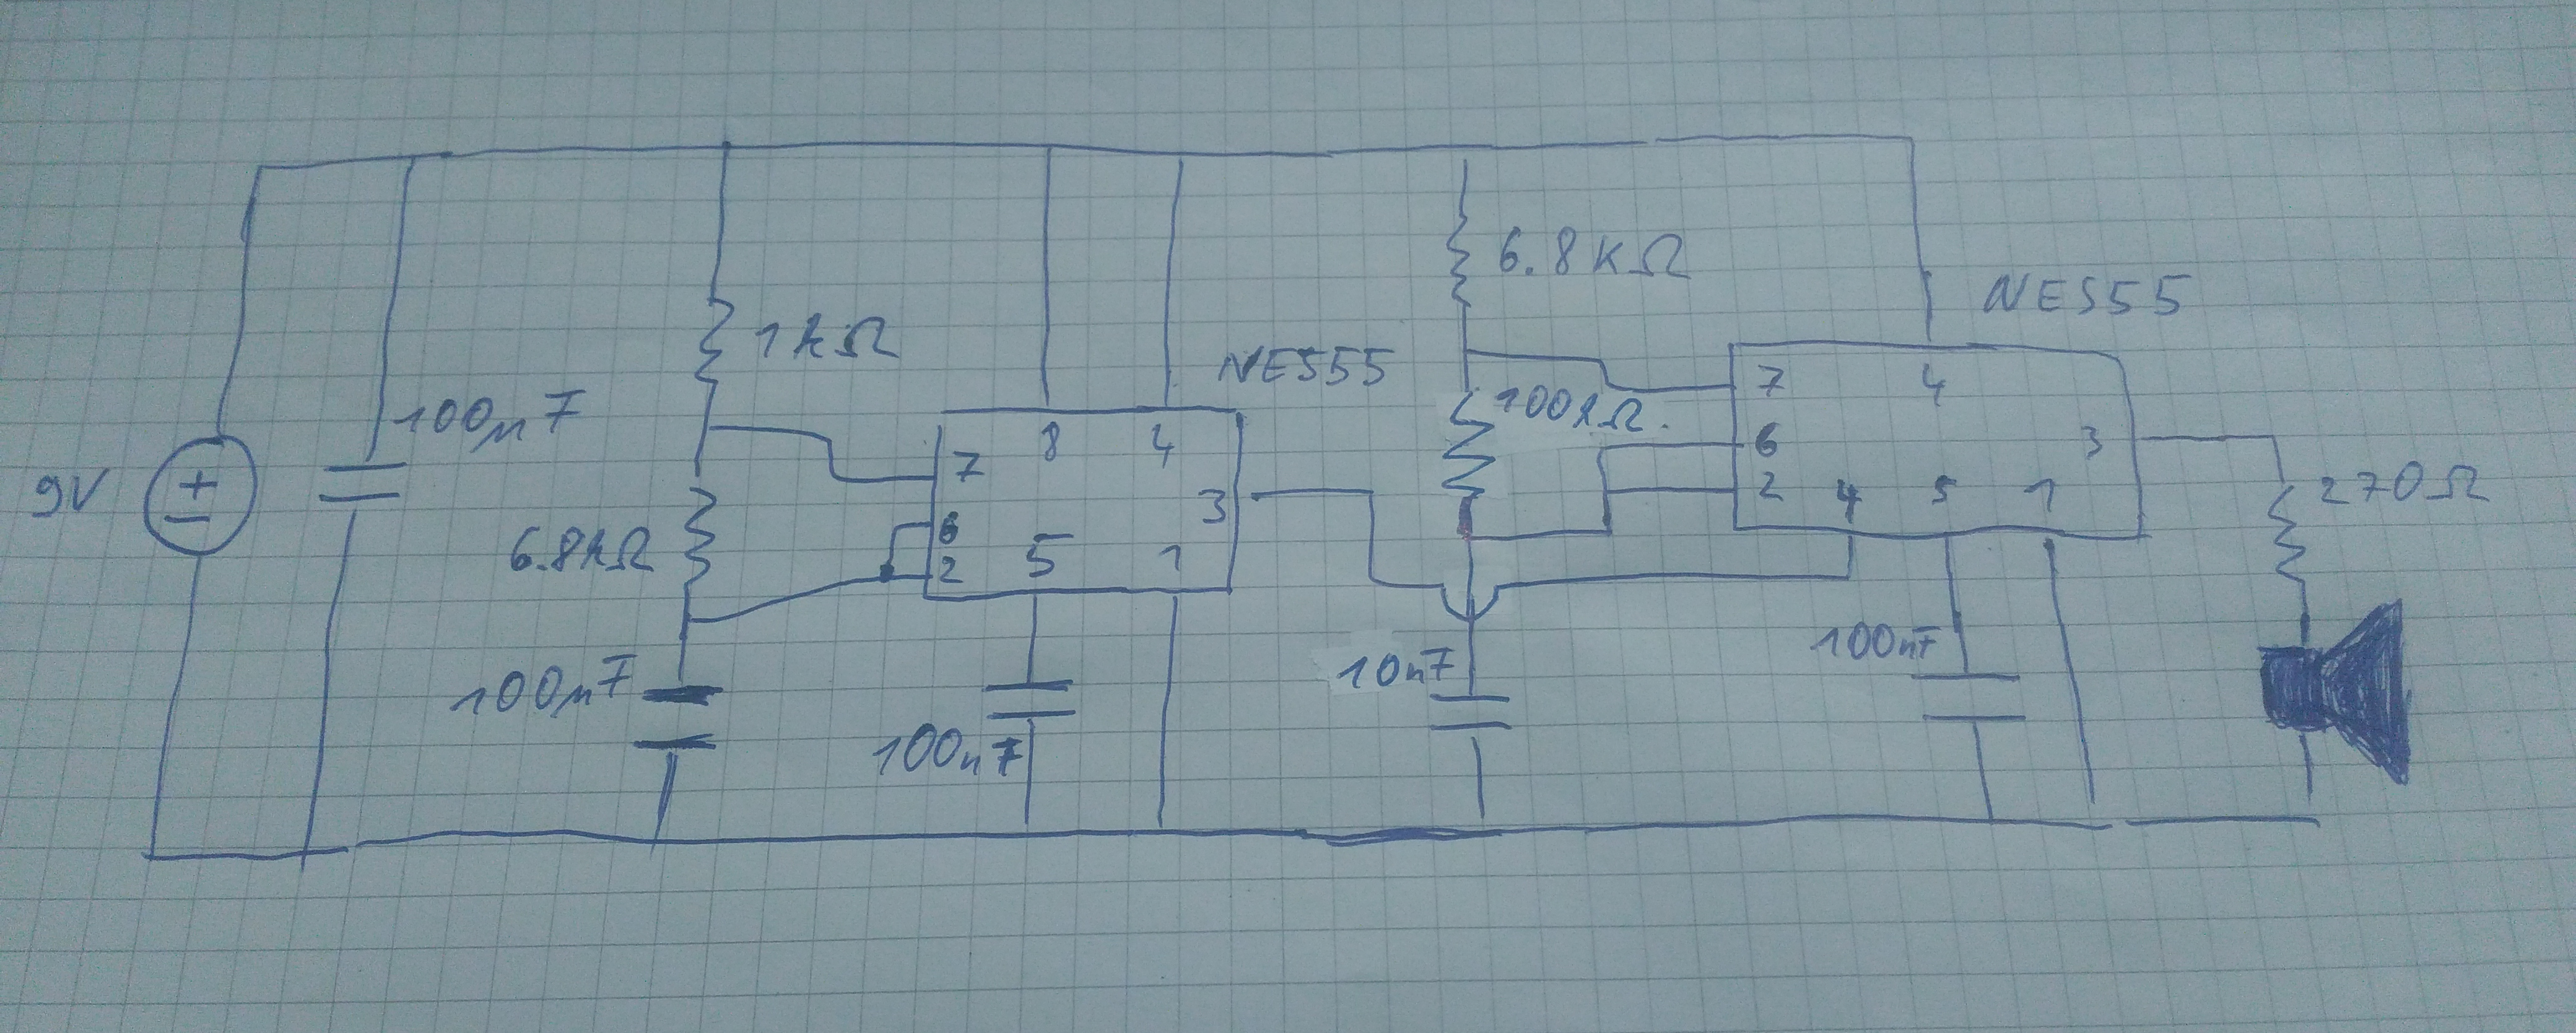capacitor.unpolarized: (1906, 665, 2032, 732), (631, 682, 733, 762), (309, 458, 414, 509), (1423, 685, 1520, 739), (979, 678, 1088, 726)
crossover: (1428, 573, 1511, 629)
integrated_cricuit.ne555: (1720, 335, 2155, 549), (918, 401, 1252, 608)
junction: (2068, 783, 2132, 842), (2284, 777, 2334, 838), (1464, 800, 1510, 857), (284, 829, 330, 885), (632, 821, 682, 870), (1968, 795, 2019, 842), (131, 831, 172, 874), (1893, 125, 1935, 164), (1446, 136, 1487, 172), (1163, 140, 1203, 176), (1010, 811, 1046, 849), (1143, 808, 1181, 844), (1030, 133, 1071, 166), (708, 133, 744, 166), (871, 557, 902, 595), (2257, 420, 2292, 453), (1592, 516, 1628, 547), (398, 143, 430, 174), (1355, 480, 1387, 511), (1452, 522, 1483, 553), (1585, 435, 1618, 465), (245, 154, 279, 182), (1590, 480, 1623, 507), (1451, 338, 1483, 366), (815, 460, 851, 484), (1833, 565, 1866, 591), (1359, 565, 1387, 593), (695, 414, 723, 440), (815, 427, 844, 452), (674, 608, 703, 632), (1597, 374, 1628, 397), (884, 517, 910, 544), (1587, 351, 1613, 374)
resistor: (1439, 376, 1500, 514), (674, 461, 724, 599), (688, 282, 741, 394), (2262, 480, 2311, 593), (1442, 204, 1483, 324)
speaker: (2254, 593, 2417, 793)
text: (389, 384, 590, 457), (447, 650, 639, 723), (1495, 222, 1697, 286), (1978, 266, 2196, 324), (871, 721, 1025, 787), (2316, 457, 2494, 512), (1490, 378, 1666, 434), (751, 304, 904, 368), (506, 517, 659, 578), (1214, 343, 1398, 391), (23, 460, 123, 524), (1331, 645, 1462, 693), (1809, 621, 1943, 665), (1023, 530, 1076, 576), (1147, 419, 1180, 471), (951, 447, 989, 488), (1833, 476, 1865, 526), (1194, 484, 1227, 529), (1917, 363, 1948, 409), (2022, 471, 2055, 514), (1751, 415, 1782, 458), (1753, 465, 1784, 506), (1929, 470, 1958, 509), (2077, 419, 2104, 460), (1756, 360, 1784, 401), (1158, 540, 1189, 576), (1038, 419, 1061, 465), (936, 509, 963, 545), (938, 553, 966, 586)
voltage.dc: (135, 432, 266, 565)
